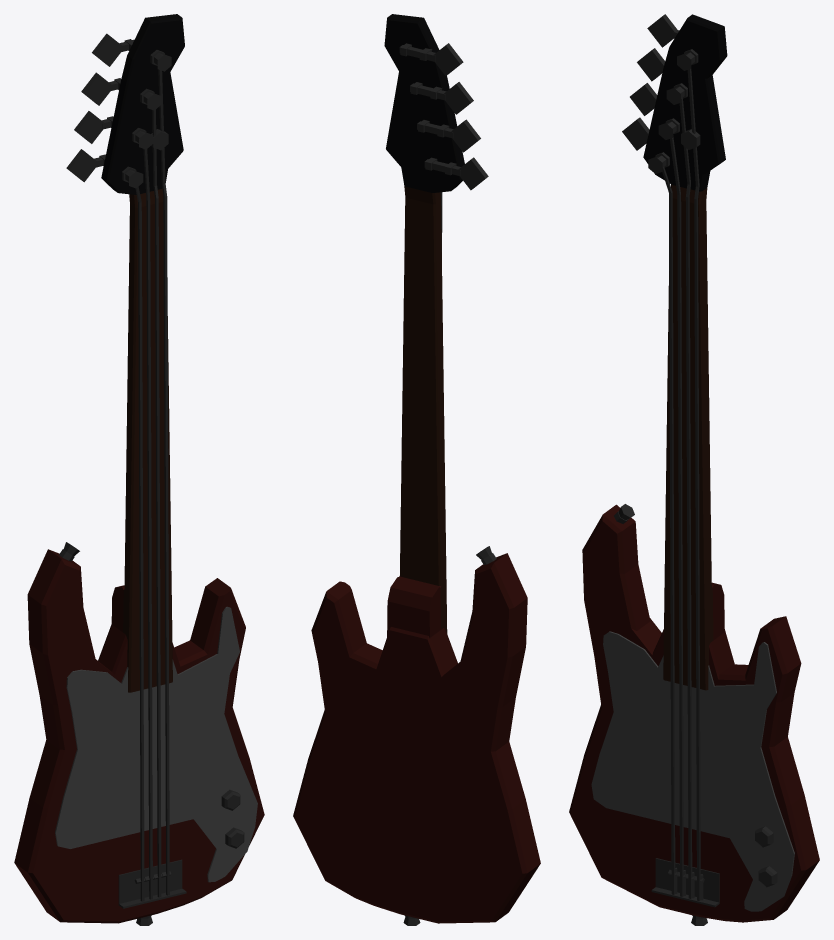
File: Bass1.obj
The picture shows the model from 3 angles, left to right: view 1: azimuth 30°, elevation 25°; view 2: azimuth 150°, elevation 25°; view 3: azimuth 330°, elevation 25°; orthographic projection.
Visible parts, largest first — view 1: Bass1_Cube.001; view 2: Bass1_Cube.001; view 3: Bass1_Cube.001.
Boxes of the visible parts, x1=… form: Bass1_Cube.001: x1=14, y1=14, x2=264, y2=925; Bass1_Cube.001: x1=293, y1=14, x2=540, y2=925; Bass1_Cube.001: x1=569, y1=14, x2=819, y2=925.
Size of the model in its own units: 0.4218 by 1.55 by 0.0812.
